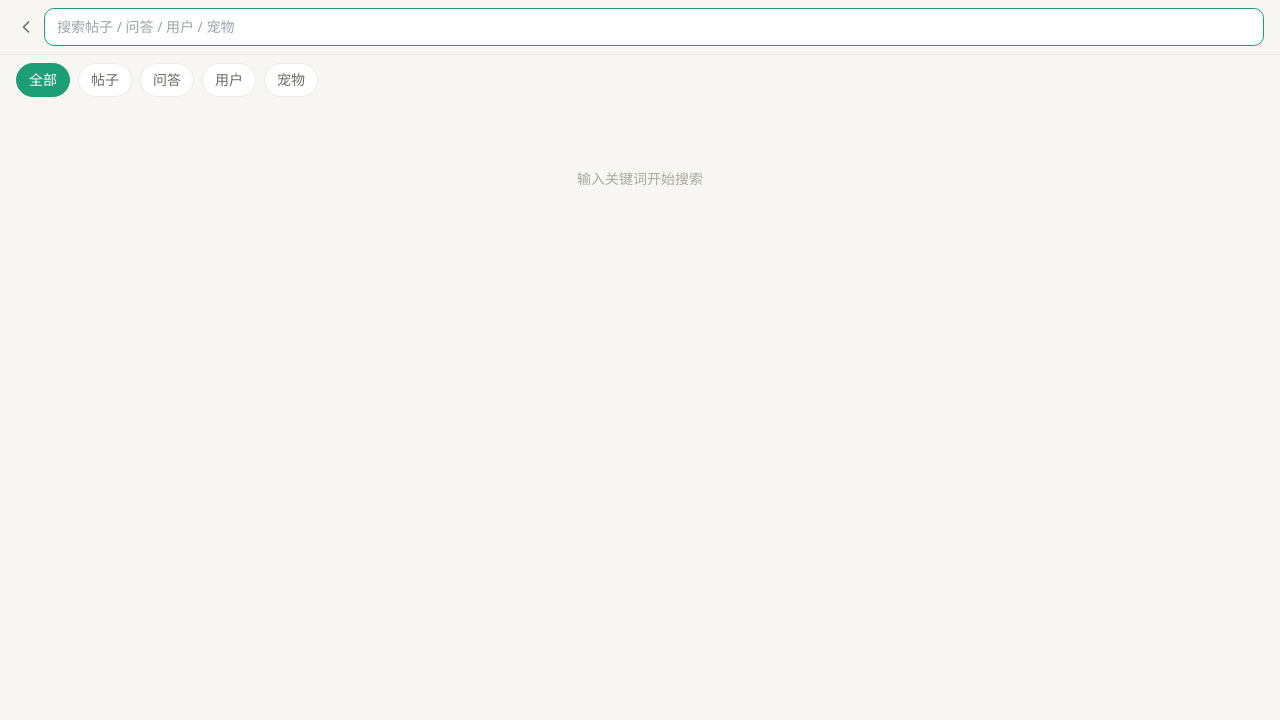
SearchPage 全局搜索 › 关键词聚合帖子 + 问答（默认全部 Tab）
Type "疫苗" into the field with placeholder "搜索帖子 / 问答 / 用户 / 宠物" at point(654, 27), box [44,8,1264,46]
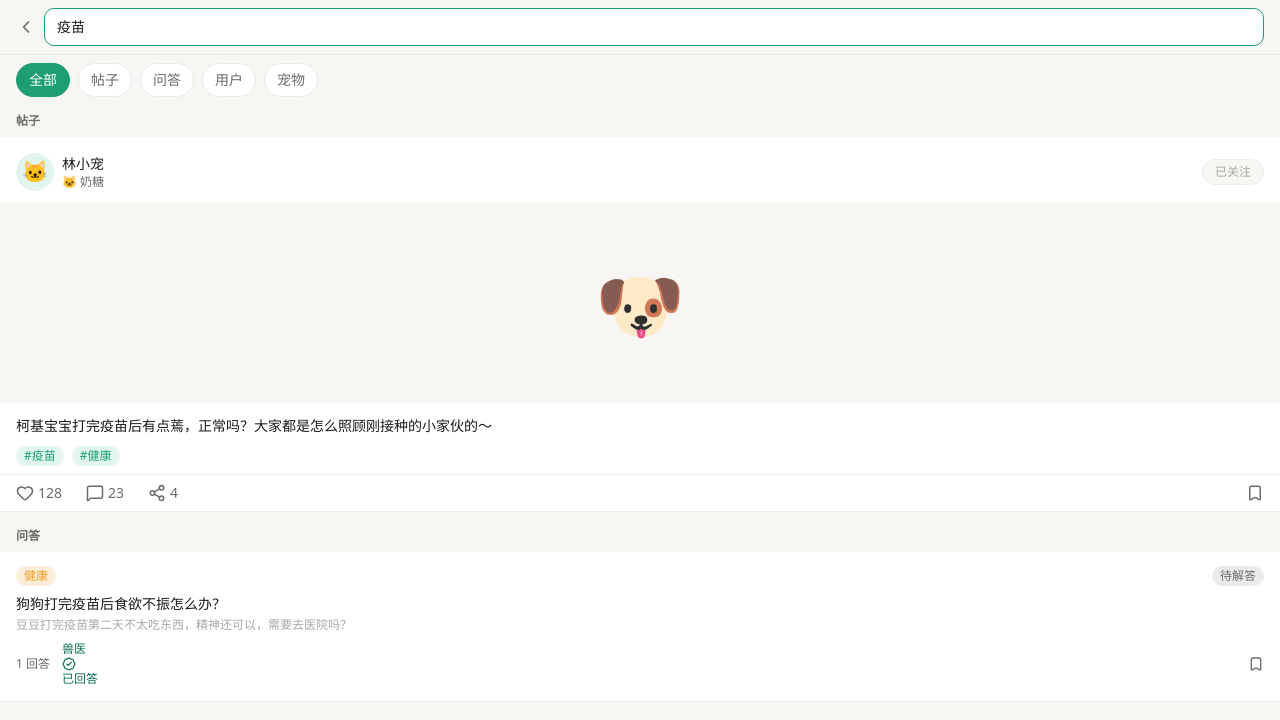
Expected: the link "柯基宝宝打完疫苗后有点蔫，正常吗？大家都是怎么照顾刚接种的小家伙的～" is shown, [16,416,492,435]
Expected: the link "狗狗打完疫苗后食欲不振怎么办？" is shown, [16,594,226,613]
